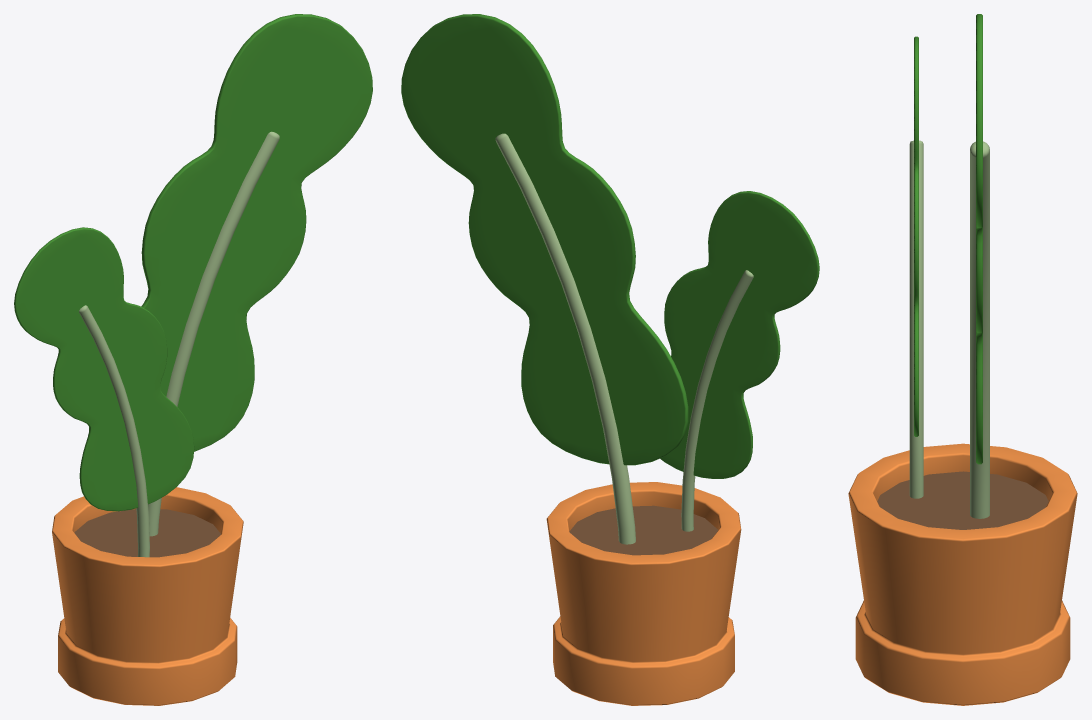
The model's file is Vase_2.glb.
The picture shows the model from 3 angles, left to right: view 1: azimuth 30°, elevation 25°; view 2: azimuth 150°, elevation 25°; view 3: azimuth 270°, elevation 25°; orthographic projection. The views are drawn at different scales.
Parts seen in each view (by area): view 1: Plant_60; view 2: Plant_60; view 3: Plant_60.
Boxes of the visible parts, x1,y1,x2,y2 form: Plant_60: [14, 14, 372, 705]; Plant_60: [401, 14, 819, 705]; Plant_60: [848, 14, 1077, 705].
Size of the model in its own units: 1.18 by 1.79 by 0.5131.
Materials: 1 (1 with a texture image).
